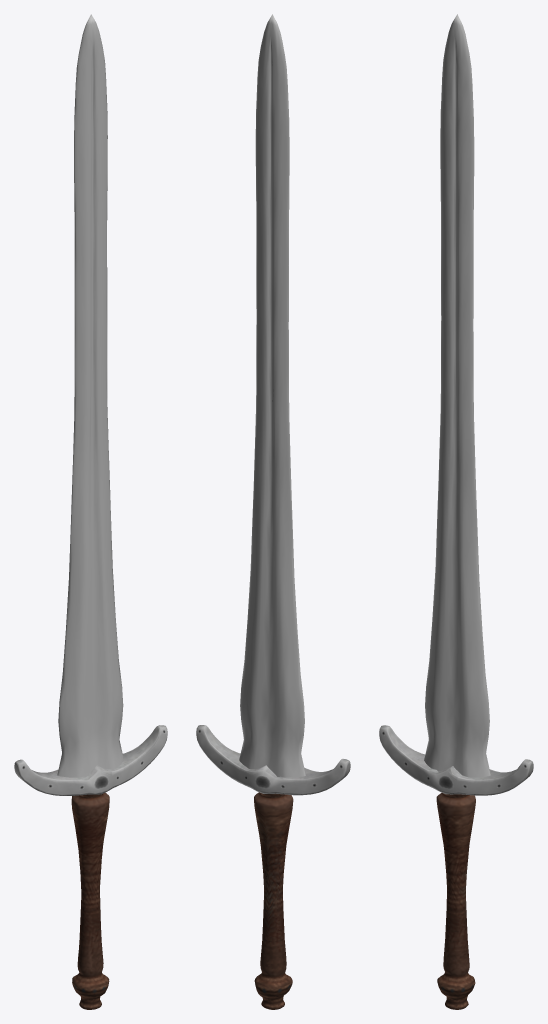
The model's file is swordModel.fbx.
3 renders of one model, left to right at view 1: azimuth 30°, elevation 25°; view 2: azimuth 150°, elevation 25°; view 3: azimuth 330°, elevation 25°, orthographic.
Visible parts, largest first — view 1: Lod000; view 2: Lod000; view 3: Lod000.
Part boxes in pixels (x1,y1,x2,y2): Lod000: [14, 14, 167, 1009]; Lod000: [196, 14, 350, 1009]; Lod000: [379, 14, 533, 1009].
Size of what is drawn, in the model's own units: 171 by 1083 by 43.03.
1 material, 1 textured.
